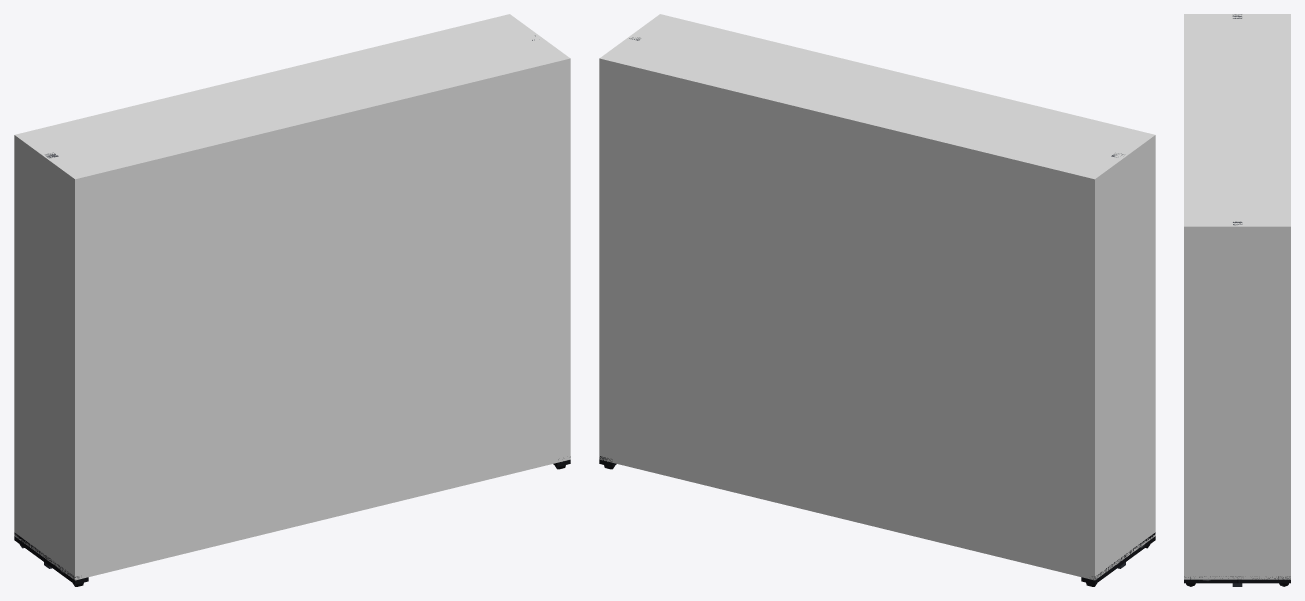
Rendered from Deco_Whiteboard.gltf.
3 renders of one model, left to right at view 1: azimuth 30°, elevation 25°; view 2: azimuth 150°, elevation 25°; view 3: azimuth 270°, elevation 25°, orthographic. The views are drawn at different scales.
Parts seen in each view (by area): view 1: Deco_Whiteboard_COL, Deco_Whiteboard; view 2: Deco_Whiteboard_COL, Deco_Whiteboard; view 3: Deco_Whiteboard_COL, Deco_Whiteboard.
Part boxes in pixels (<box>): Deco_Whiteboard_COL: <box>14,14,570,580</box>; Deco_Whiteboard: <box>14,35,570,586</box>; Deco_Whiteboard_COL: <box>599,14,1155,580</box>; Deco_Whiteboard: <box>599,37,1155,586</box>; Deco_Whiteboard_COL: <box>1184,14,1290,579</box>; Deco_Whiteboard: <box>1184,14,1290,586</box>.
Bounding box in the file's own units: 2.59 × 2.05 × 0.55.
6 materials, 2 textured.
